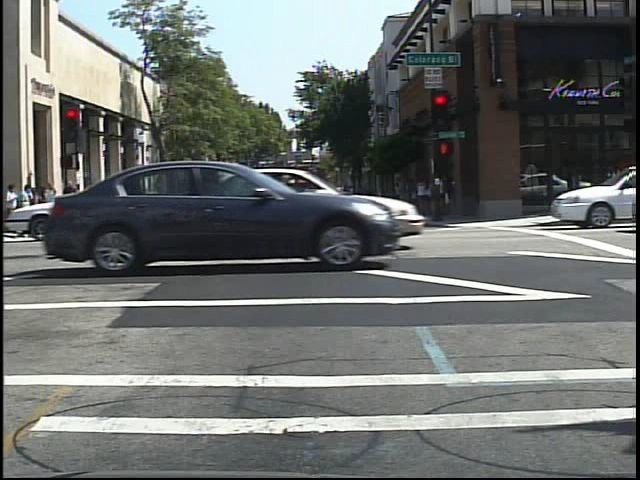person: (101, 179, 120, 225)
